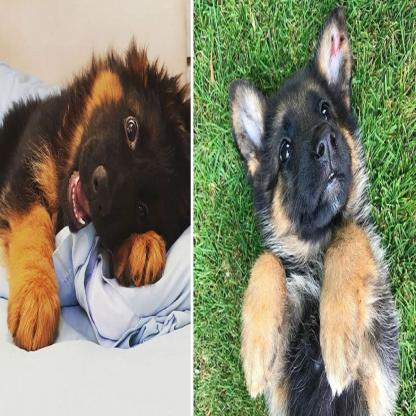german shepherd: (228, 24, 400, 416), (0, 56, 191, 347)
